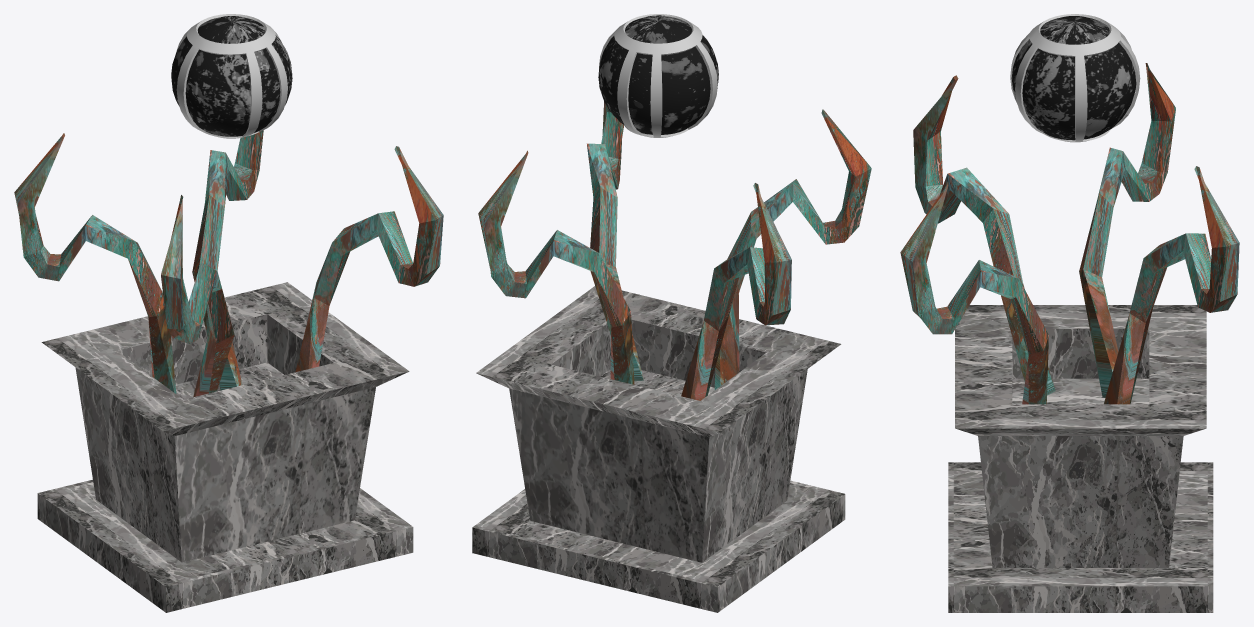
File: Beacon_V2.FBX
The picture shows the model from 3 angles, left to right: view 1: azimuth 30°, elevation 25°; view 2: azimuth 150°, elevation 25°; view 3: azimuth 270°, elevation 25°; orthographic projection. The views are drawn at different scales.
Visible parts, largest first — view 1: Pillar, T3 (×2), Orb, T1, T2, Neon; view 2: Pillar, T3 (×2), Orb, T2, T1, Neon; view 3: Pillar, T3 (×2), Orb, T1, T2, Neon.
Boxes of the visible parts, x1,y1,x2,y2 form: Pillar: (37,282,413,612); T3 (×2): (14,130,263,393); Orb: (171,16,292,136); T1: (295,146,443,372); T2: (161,195,234,396); Neon: (176,14,287,138); Pillar: (472,286,845,612); T3 (×2): (478,150,791,400); Orb: (598,15,718,134); T2: (714,109,871,389); T1: (587,101,643,381); Neon: (599,14,717,137); Pillar: (948,305,1213,612); T3 (×2): (1079,63,1239,404); Orb: (1011,16,1136,140); T1: (900,181,1048,404); T2: (913,75,1055,395); Neon: (1010,14,1140,142).
Bounding box in the file's own units: 95.41 × 153 × 88.56.
